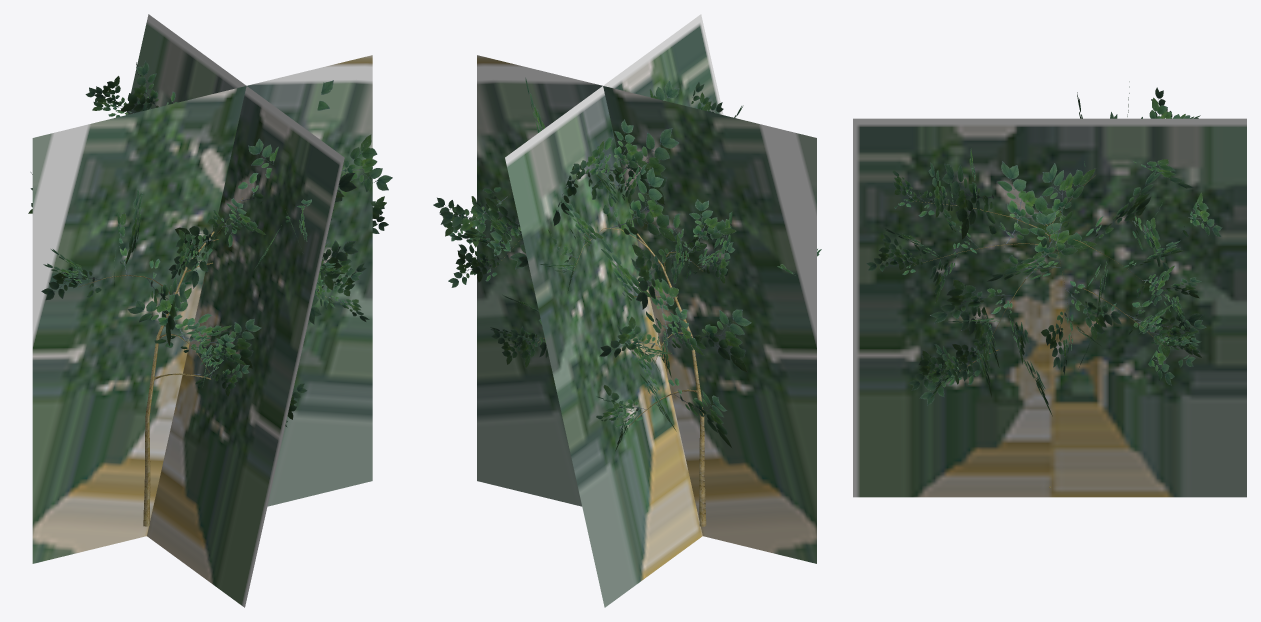
File: Shrub1-2A.fbx
3 views of the same model, side by side, from view 1: azimuth 30°, elevation 25°; view 2: azimuth 150°, elevation 25°; view 3: azimuth 270°, elevation 25° (orthographic).
Parts seen in each view (by area): view 1: Billboard-Shrub1-2A, Shrub1-2A_LOD0; view 2: Billboard-Shrub1-2A, Shrub1-2A_LOD0; view 3: Billboard-Shrub1-2A, Shrub1-2A_LOD0.
Boxes of the visible parts, x1,y1,x2,y2 form: Billboard-Shrub1-2A: (32,14,372,607); Shrub1-2A_LOD0: (28,61,392,526); Billboard-Shrub1-2A: (477,14,816,607); Shrub1-2A_LOD0: (433,77,821,526); Billboard-Shrub1-2A: (853,118,1246,497); Shrub1-2A_LOD0: (866,81,1221,487).
Size of what is drawn, in the model's own units: 318 by 363 by 292.
